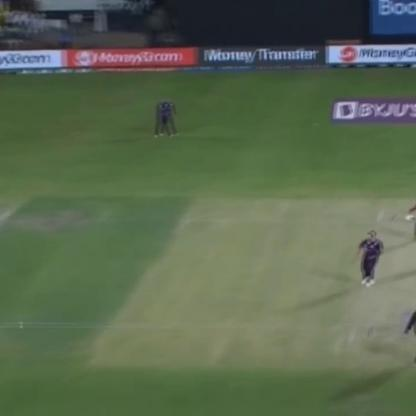ball: (13, 319, 26, 336)
pitch: (348, 198, 416, 368)
